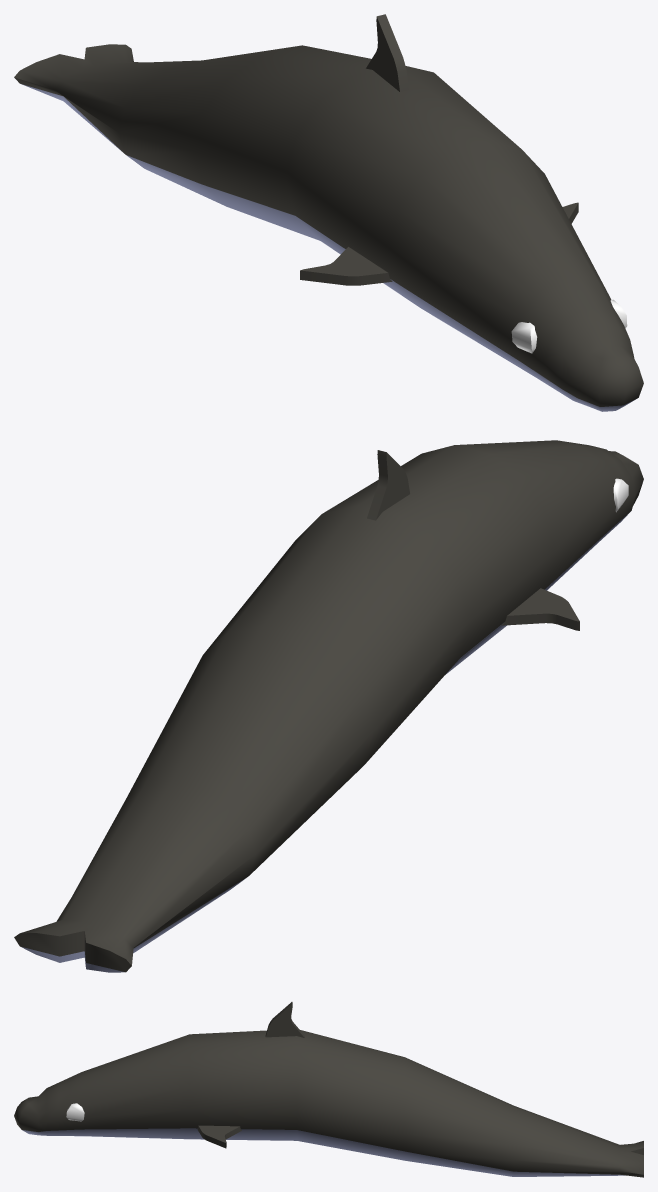
File: Dolphin.fbx
The picture shows the model from 3 angles, top to bottom: view 1: azimuth 30°, elevation 25°; view 2: azimuth 150°, elevation 25°; view 3: azimuth 270°, elevation 25°; orthographic projection. The views are drawn at different scales.
Parts seen in each view (by area): view 1: Dolphin; view 2: Dolphin; view 3: Dolphin.
Boxes of the visible parts, left/top/right/bottom form: Dolphin: left=14, top=14, right=643, bottom=411; Dolphin: left=14, top=440, right=643, bottom=972; Dolphin: left=14, top=1002, right=643, bottom=1177.
Bounding box in the file's own units: 0.1429 × 0.1449 × 0.4907.
